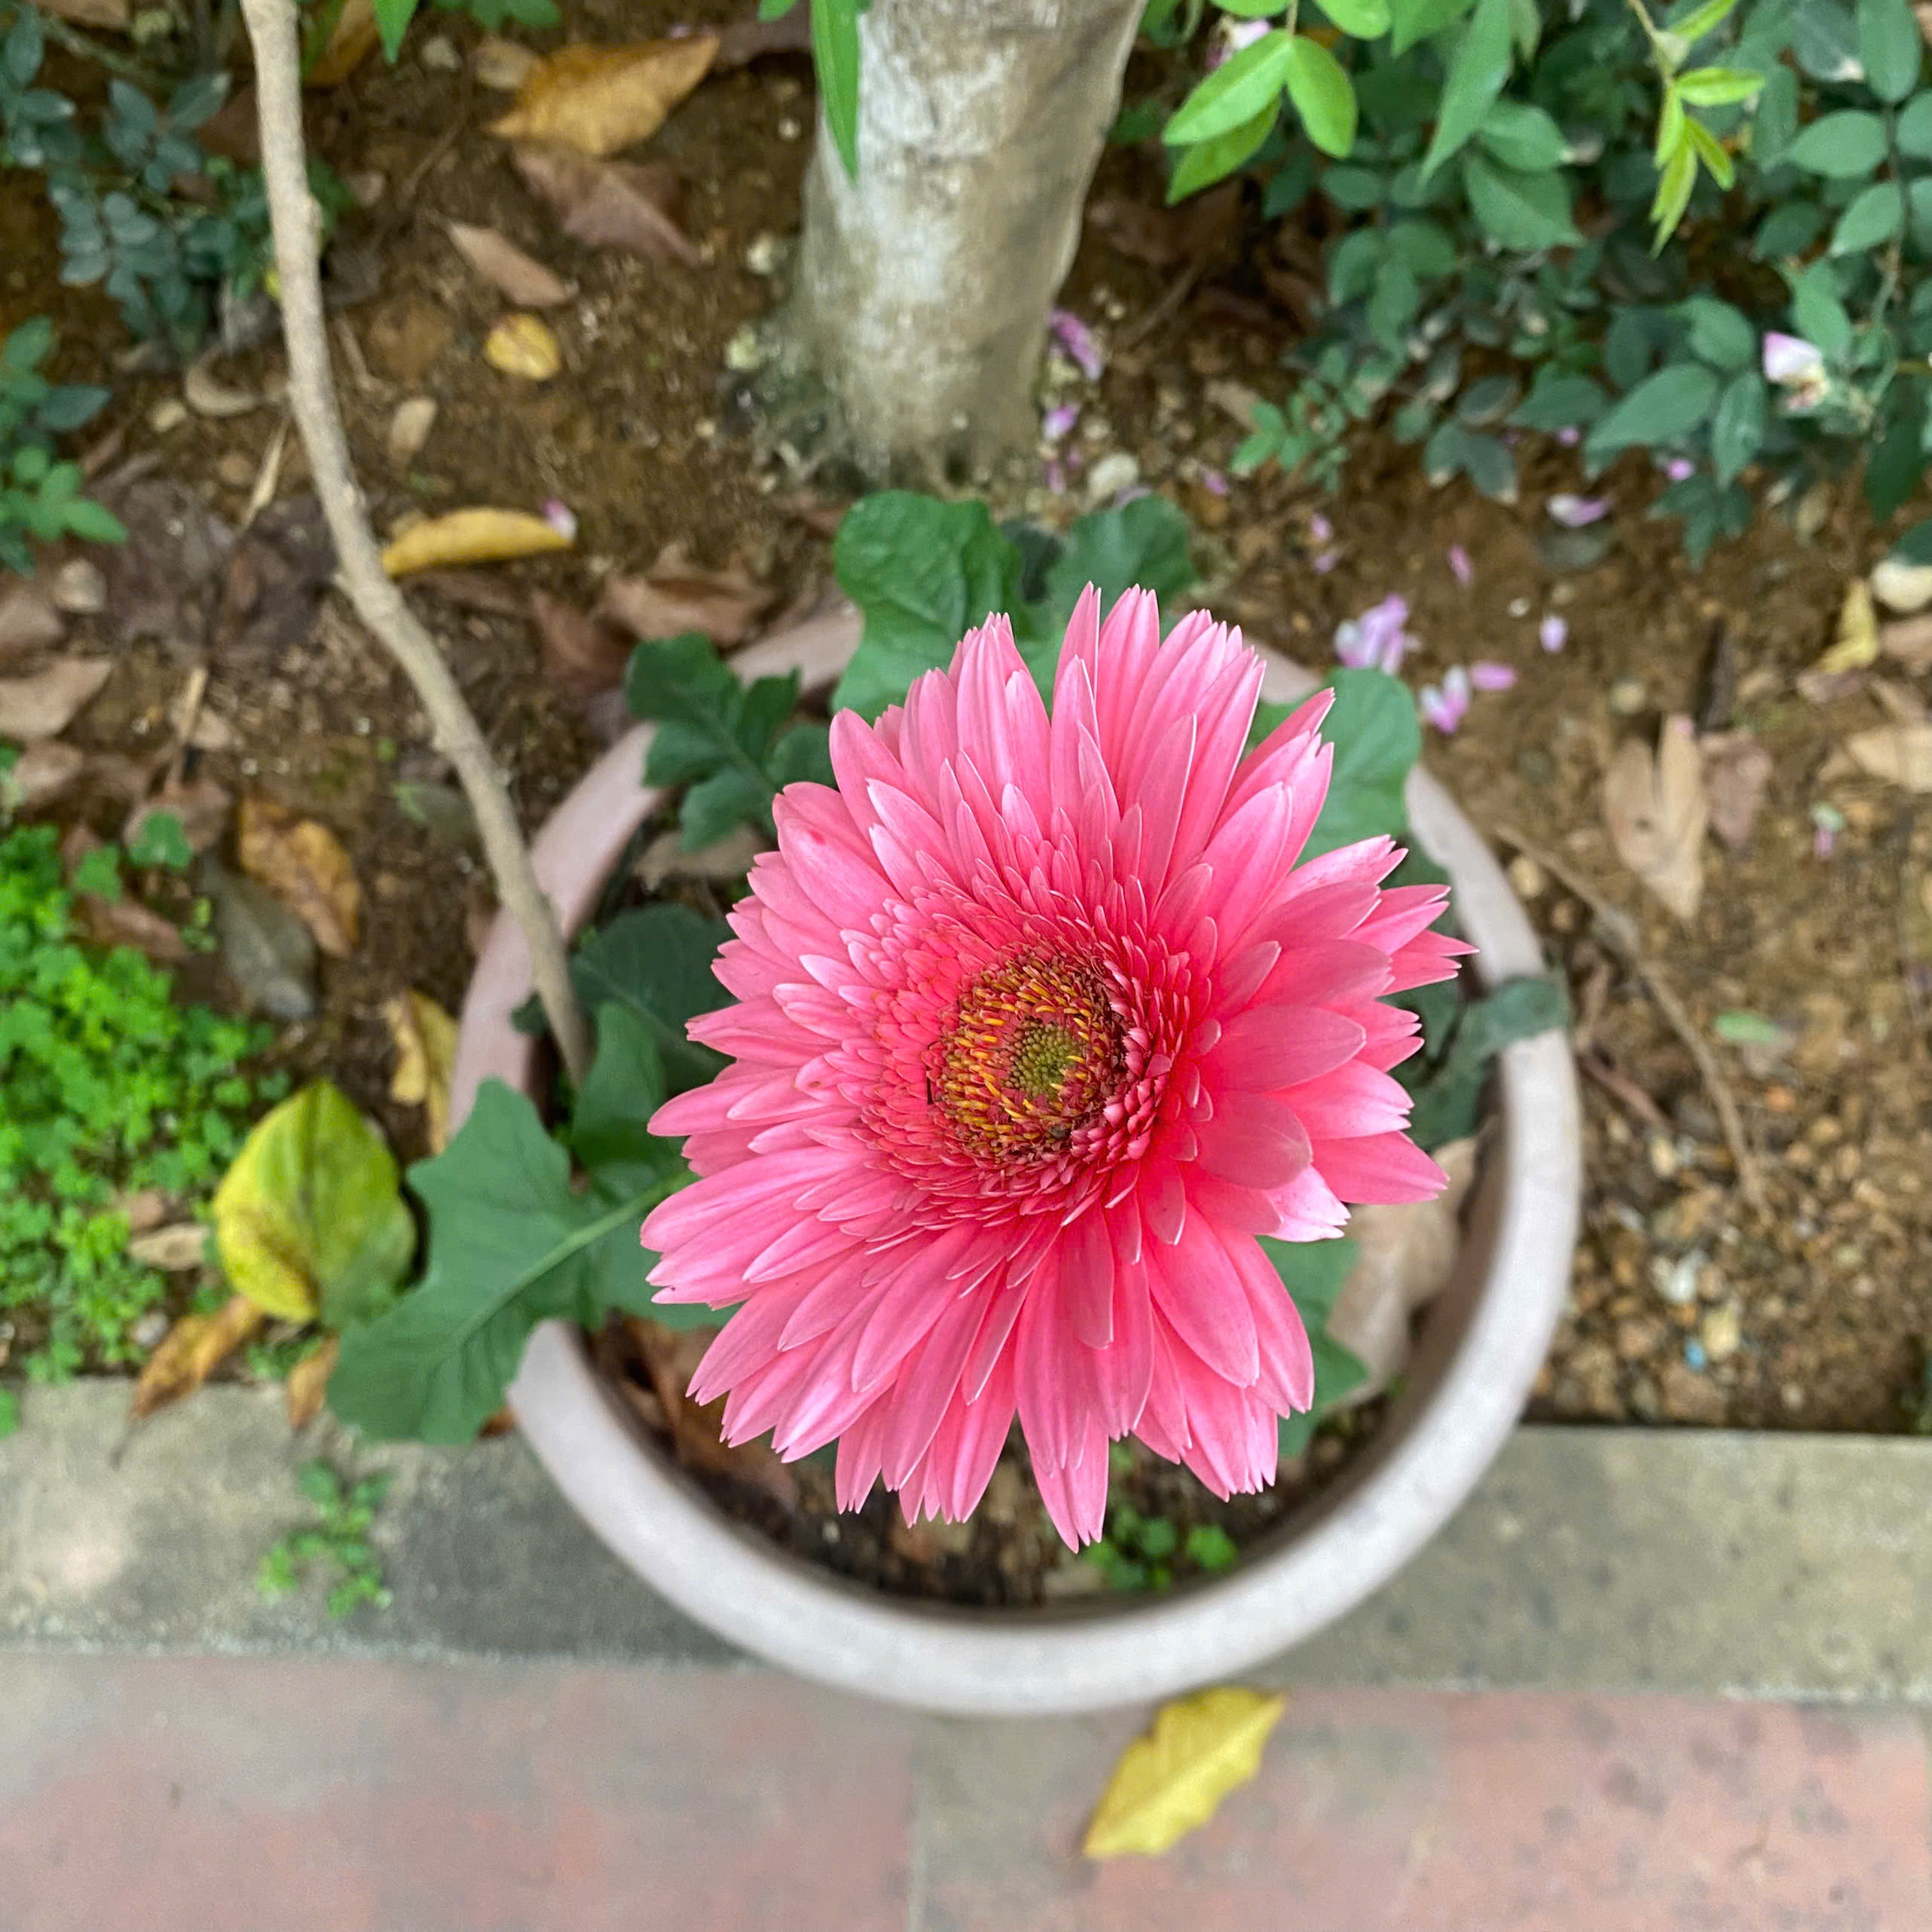hoa_huong_duong: (538, 552, 1640, 1637)
